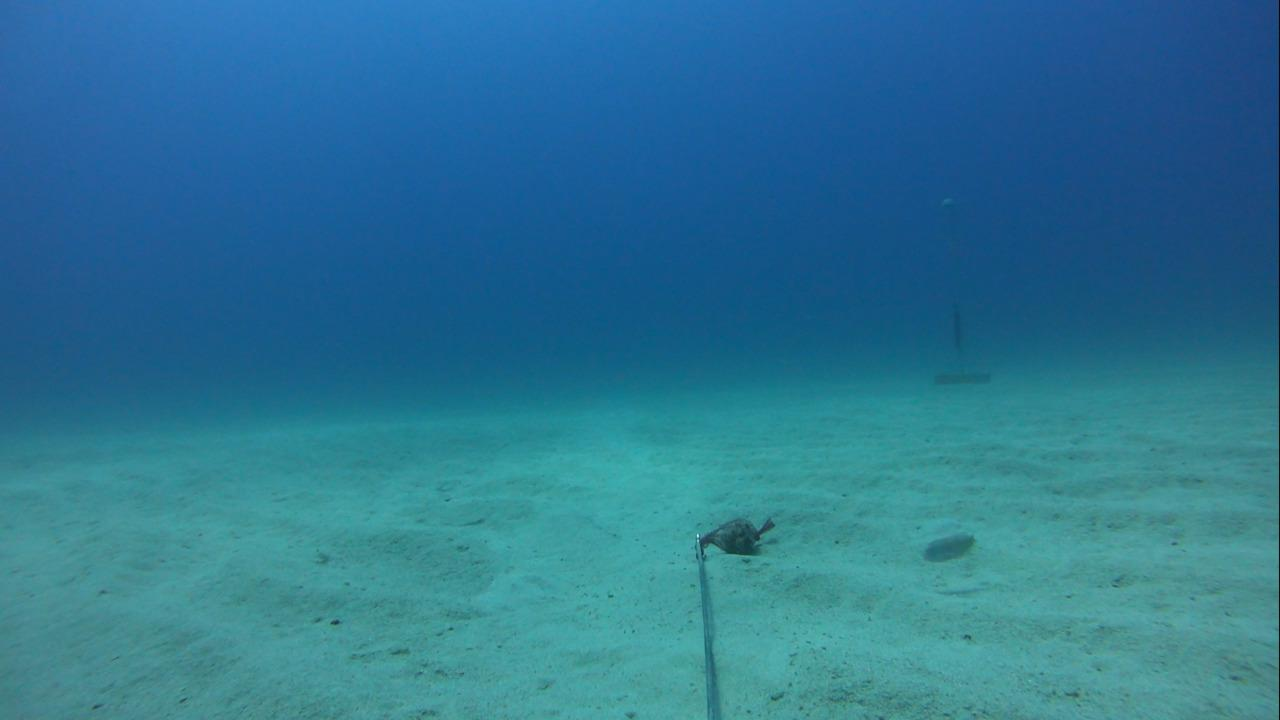raor: (916, 521, 982, 571)
